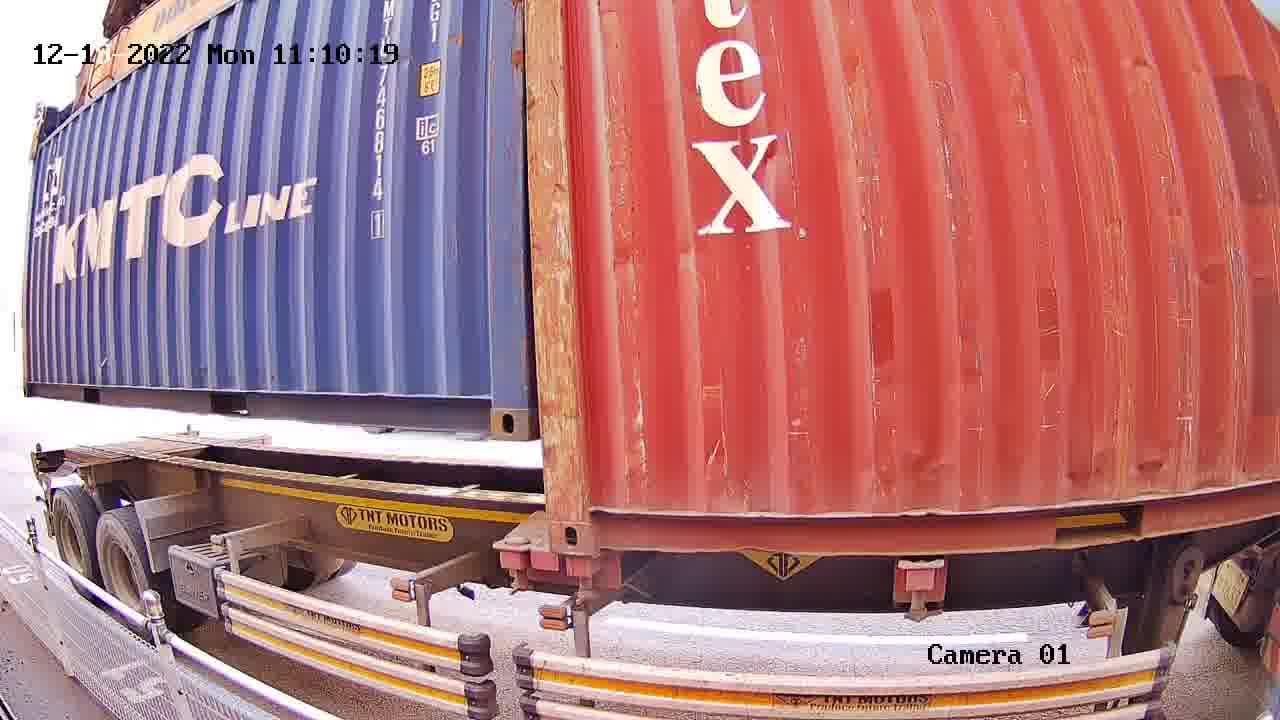Cone: (557, 556, 603, 603), (494, 536, 531, 591)
Hole_L: (545, 474, 633, 552)
Hole_R: (450, 351, 529, 436)
Tire: (98, 512, 143, 608), (52, 492, 92, 570)
